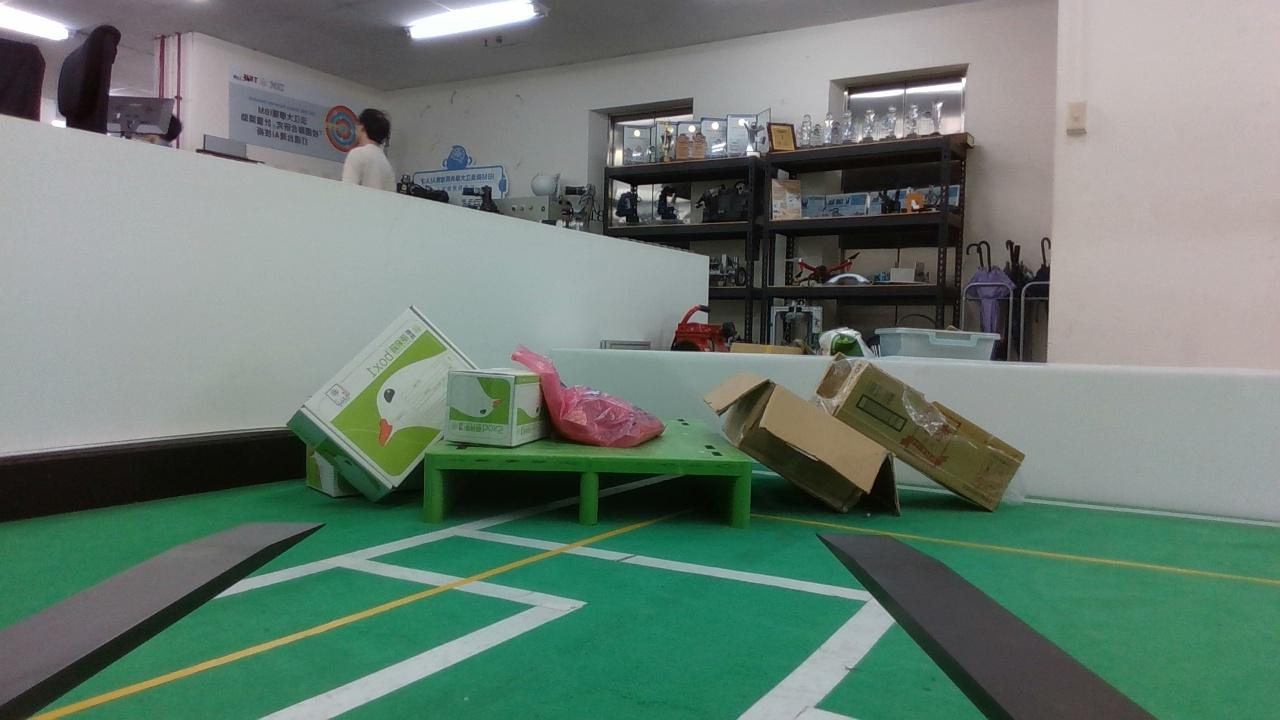Pallet: (422, 452, 753, 525)
